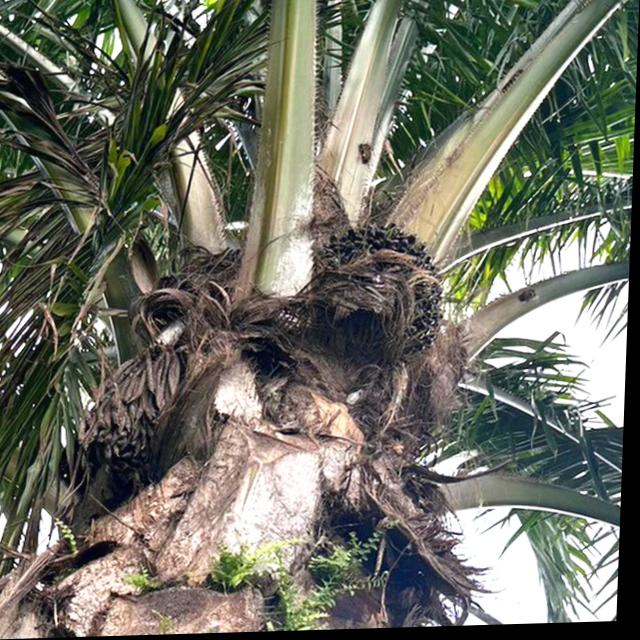unripe: (306, 213, 459, 377)
